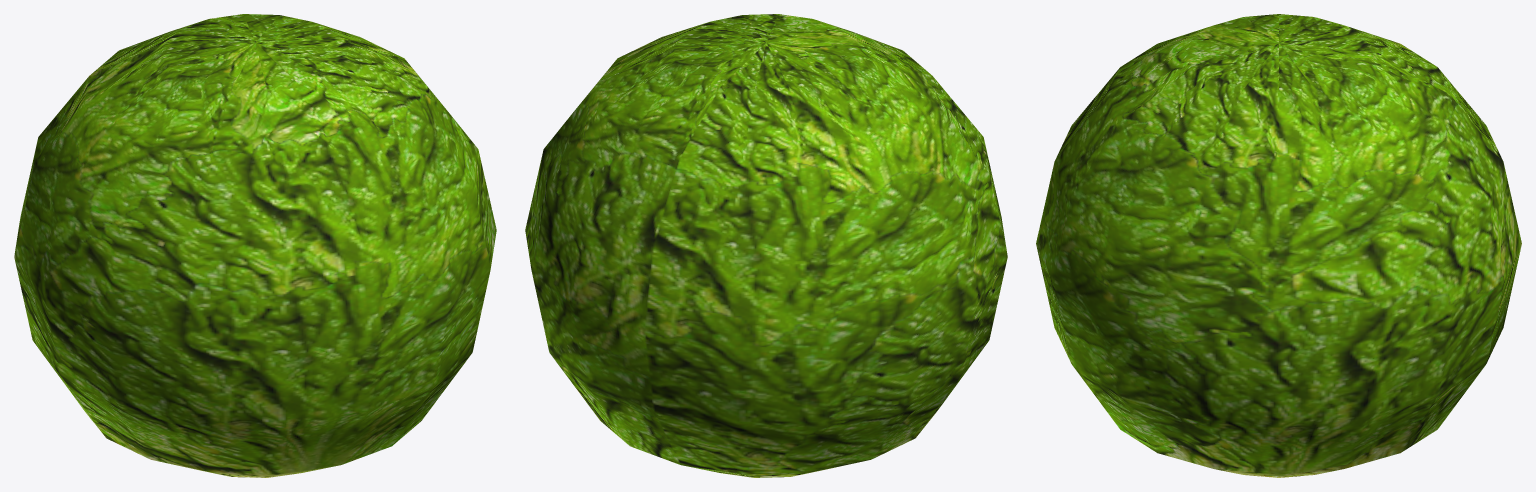
Rendered from lettuce.obj.
The picture shows the model from 3 angles, left to right: view 1: azimuth 30°, elevation 25°; view 2: azimuth 150°, elevation 25°; view 3: azimuth 270°, elevation 25°; orthographic projection.
Parts seen in each view (by area): view 1: Sphere001; view 2: Sphere001; view 3: Sphere001.
Boxes of the visible parts, bbox=[...] form: Sphere001: bbox=[14, 14, 496, 477]; Sphere001: bbox=[525, 14, 1007, 477]; Sphere001: bbox=[1036, 14, 1521, 477].
Bounding box in the file's own units: 14.84 × 13.33 × 14.84.
